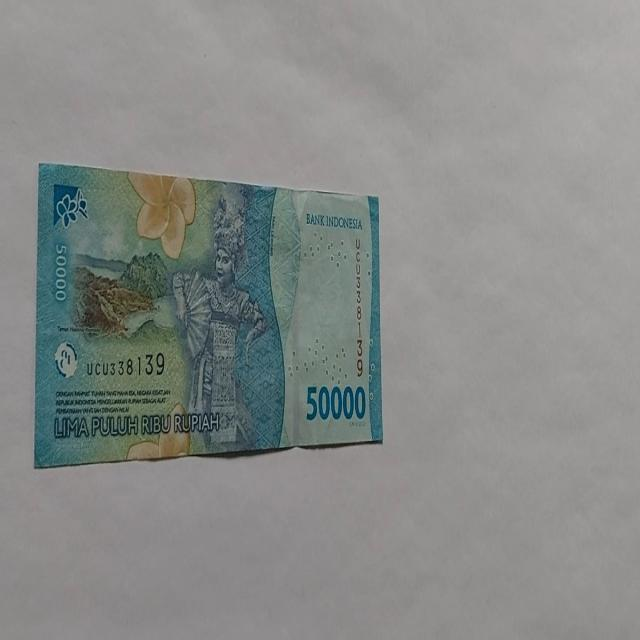lima puluh ribu rupiah: (34, 162, 383, 468)
